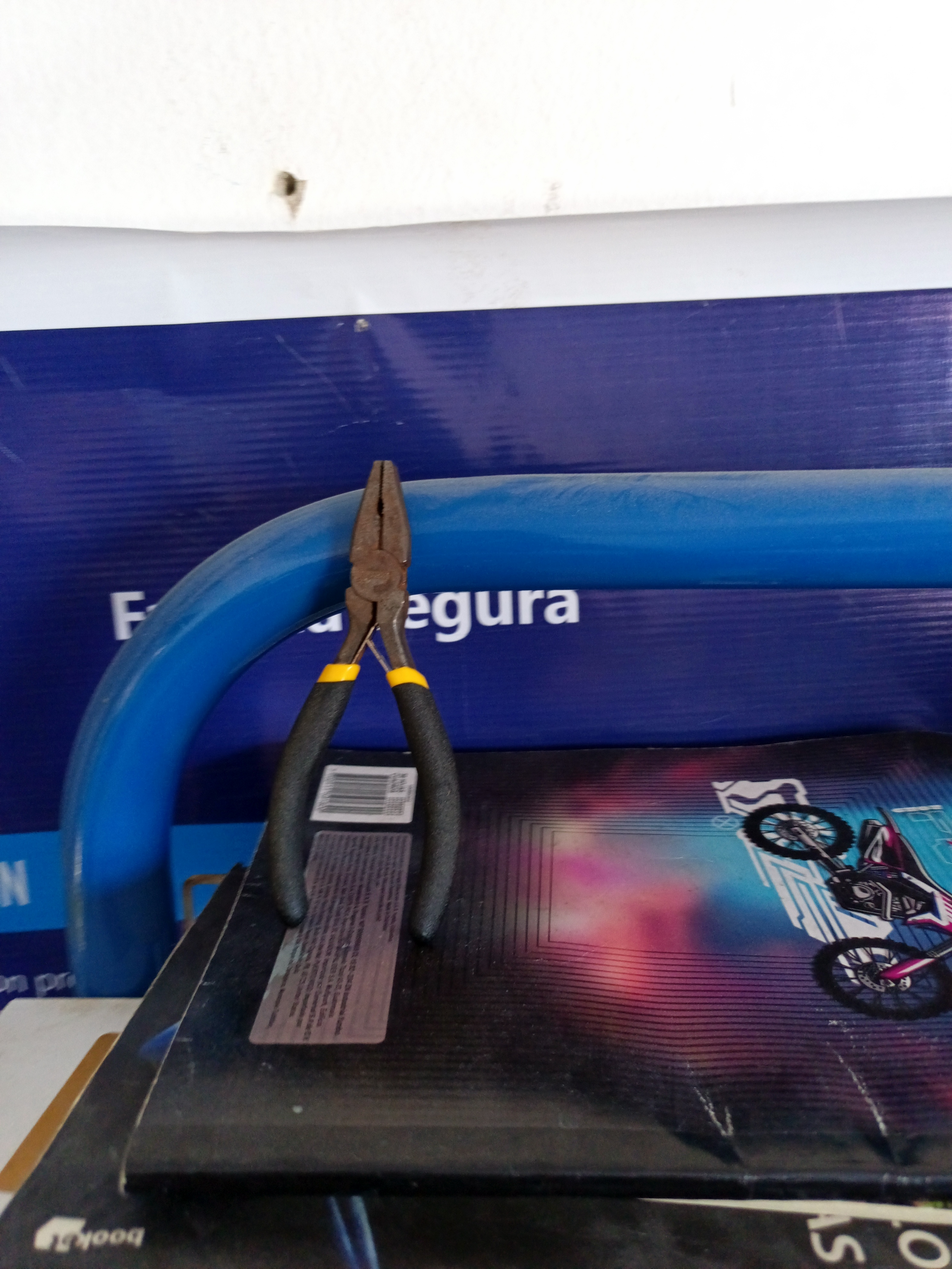Pinzas: (267, 461, 460, 941)
